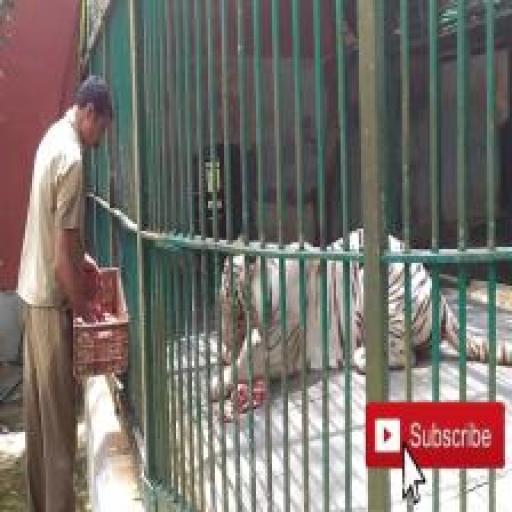Tiger: (205, 228, 512, 422)
